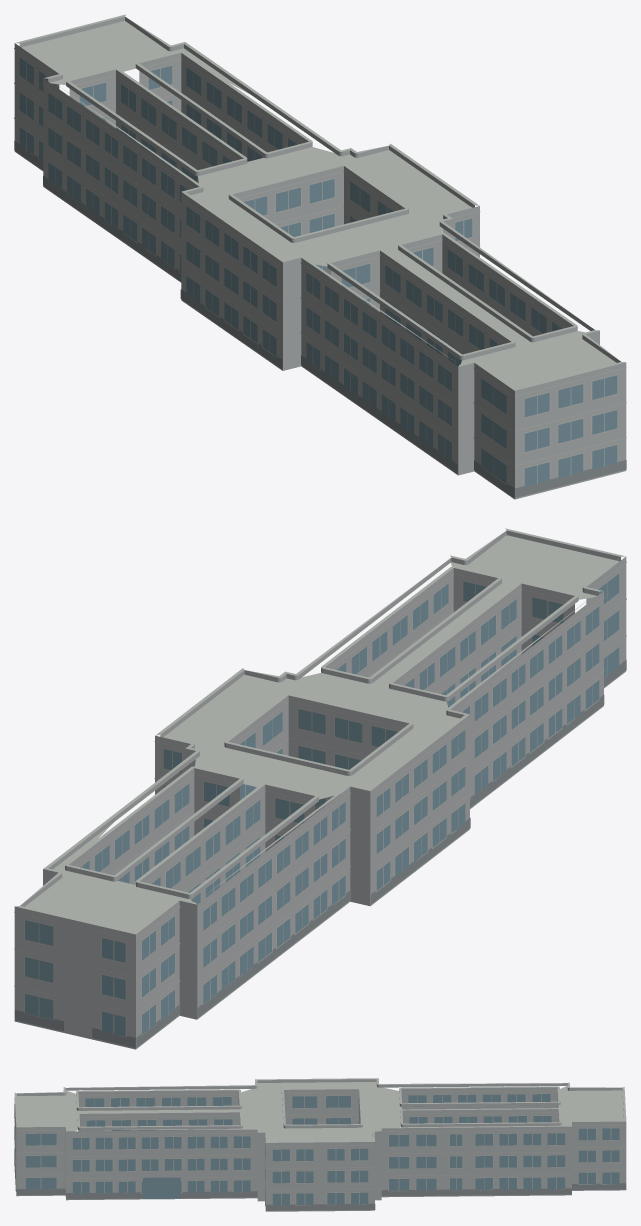
File: civic-a1d78a03-a0b3-4ef2-ab28-b3a5021cfbcc.glb
3 renders of one model, top to bottom at view 1: azimuth 30°, elevation 25°; view 2: azimuth 150°, elevation 25°; view 3: azimuth 270°, elevation 25°, orthographic. The views are drawn at different scales.
Visible parts, largest first — view 1: civic-a1d78a03-a0b3-4ef2-ab28-b3a5021cfbcc; view 2: civic-a1d78a03-a0b3-4ef2-ab28-b3a5021cfbcc; view 3: civic-a1d78a03-a0b3-4ef2-ab28-b3a5021cfbcc.
Part boxes in pixels (<box>): civic-a1d78a03-a0b3-4ef2-ab28-b3a5021cfbcc: <box>14,14,626,499</box>; civic-a1d78a03-a0b3-4ef2-ab28-b3a5021cfbcc: <box>14,528,626,1049</box>; civic-a1d78a03-a0b3-4ef2-ab28-b3a5021cfbcc: <box>14,1078,626,1211</box>.
Bounding box in the file's own units: 20.41 × 10.05 × 81.08.
